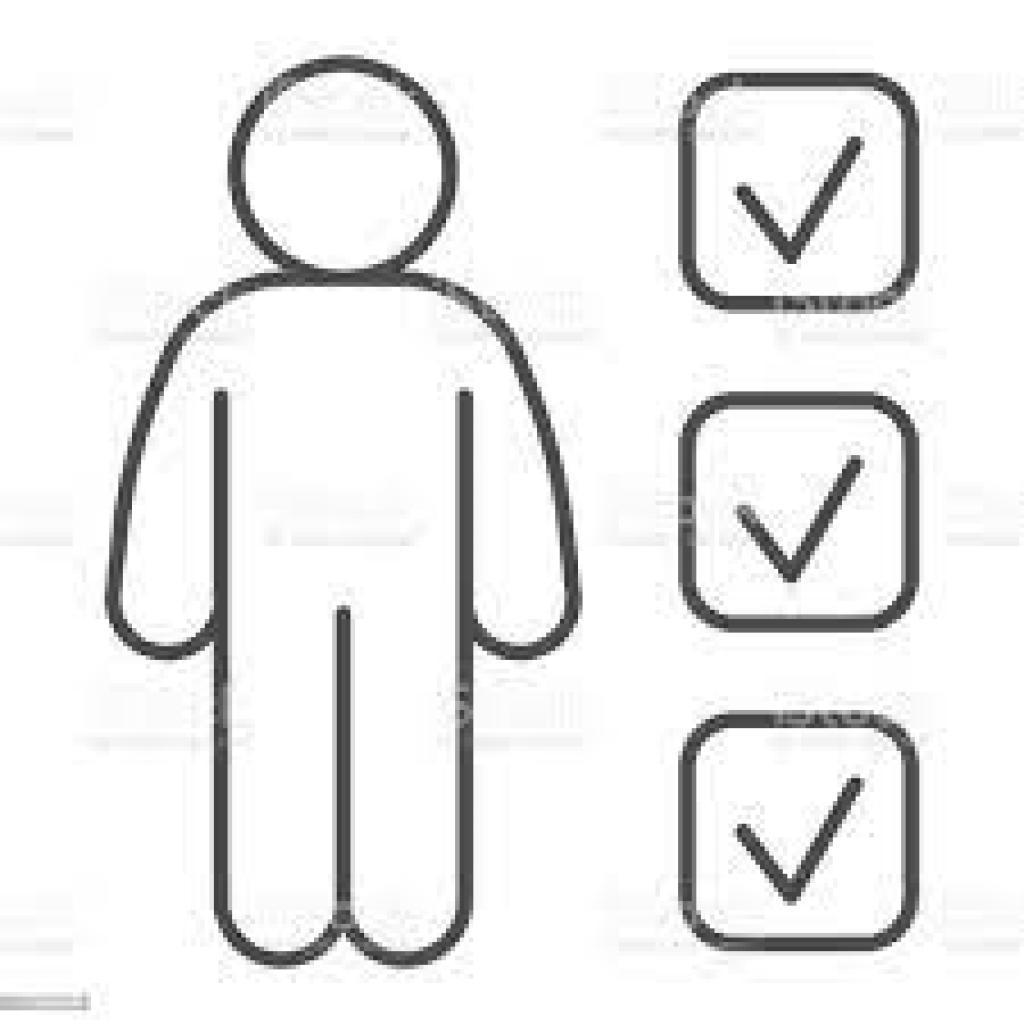checkbox: (678, 709, 923, 955), (677, 391, 922, 636), (680, 75, 923, 315)
